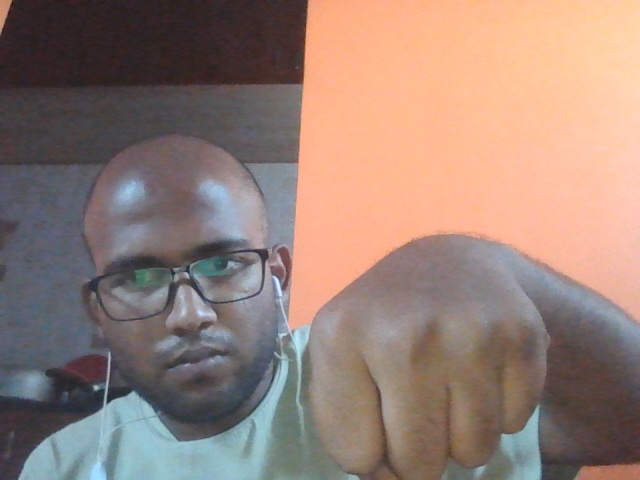yes: (252, 220, 612, 480)
